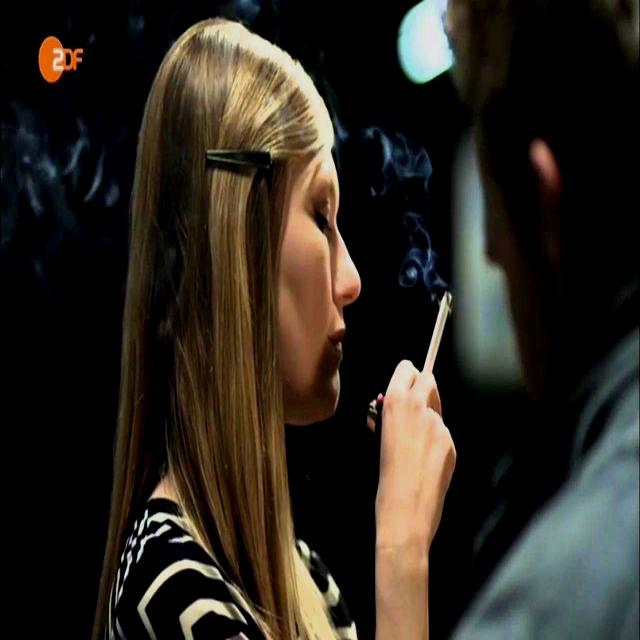Smooking: (422, 285, 453, 401)
